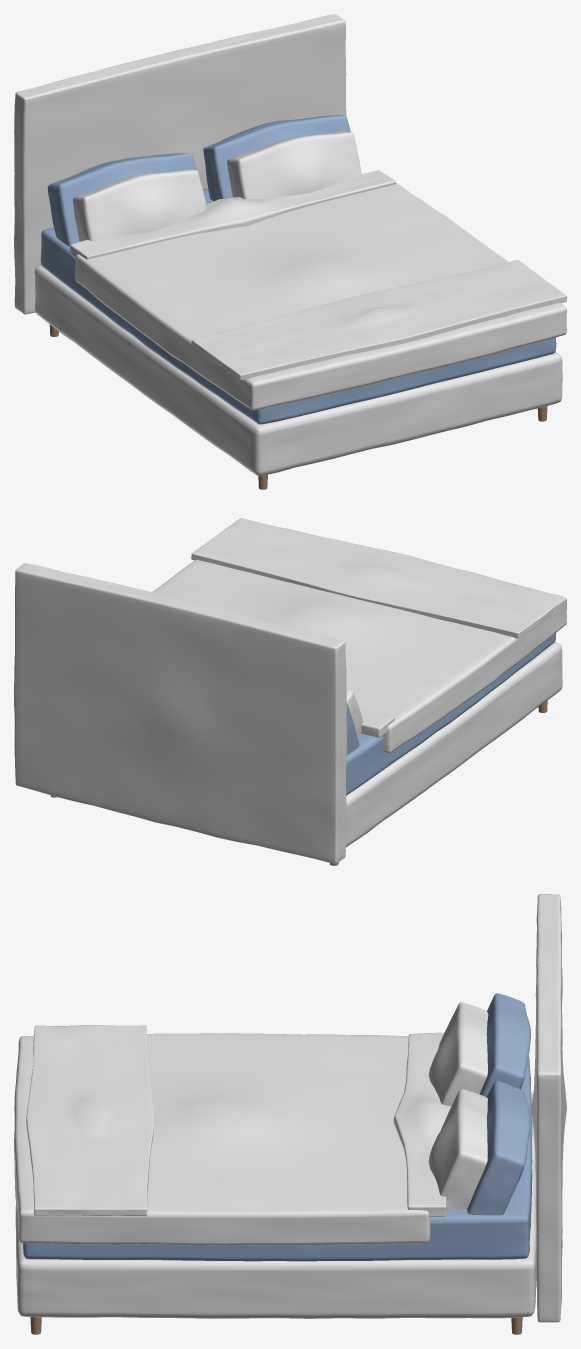
The model's file is bed__1.glb.
The picture shows the model from 3 angles, top to bottom: view 1: azimuth 30°, elevation 25°; view 2: azimuth 150°, elevation 25°; view 3: azimuth 270°, elevation 25°; orthographic projection. The views are drawn at different scales.
Parts seen in each view (by area): view 1: duvet, headboard, bed base, throw, mattress, pillow.002, pillow.003, duvet fold, pillow, pillow.001; view 2: headboard, duvet, throw, bed base, mattress, duvet fold; view 3: duvet, bed base, throw, mattress, headboard, duvet fold, pillow.001, pillow.003, pillow.002, pillow.
Boxes of the visible parts, x1=… form: duvet: x1=75, y1=183, x2=566, y2=410; headboard: x1=14, y1=14, x2=346, y2=314; bed base: x1=34, y1=265, x2=562, y2=476; throw: x1=191, y1=260, x2=566, y2=380; mattress: x1=40, y1=188, x2=556, y2=424; pillow.002: x1=73, y1=169, x2=206, y2=241; pillow.003: x1=227, y1=131, x2=361, y2=199; duvet fold: x1=70, y1=170, x2=395, y2=259; pillow: x1=47, y1=153, x2=196, y2=246; pillow.001: x1=203, y1=115, x2=350, y2=201; headboard: x1=14, y1=563, x2=346, y2=863; duvet: x1=152, y1=527, x2=566, y2=753; throw: x1=191, y1=518, x2=566, y2=638; bed base: x1=345, y1=642, x2=562, y2=847; mattress: x1=346, y1=633, x2=556, y2=795; duvet fold: x1=359, y1=708, x2=394, y2=737; duvet: x1=14, y1=1033, x2=430, y2=1245; bed base: x1=15, y1=1093, x2=536, y2=1318; throw: x1=26, y1=1025, x2=154, y2=1216; mattress: x1=22, y1=1056, x2=532, y2=1261; headboard: x1=531, y1=894, x2=566, y2=1322; duvet fold: x1=393, y1=1032, x2=451, y2=1216; pillow.001: x1=467, y1=1080, x2=531, y2=1215; pillow.003: x1=428, y1=1089, x2=487, y2=1209; pillow.002: x1=428, y1=1002, x2=488, y2=1105; pillow: x1=480, y1=993, x2=530, y2=1097.
Bounding box in the file's own units: 1.76 × 1.22 × 2.23.
Materials: 6 (2 with a texture image).
